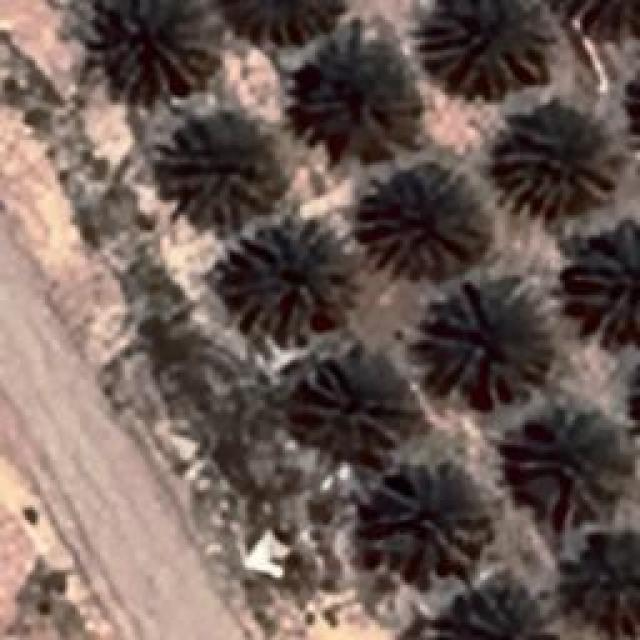PalmTree: (288, 30, 422, 160), (218, 215, 350, 335), (355, 160, 483, 278), (152, 105, 270, 230), (510, 402, 630, 522), (430, 280, 545, 405), (490, 110, 620, 215), (415, 0, 550, 98), (374, 462, 488, 568), (302, 354, 416, 458), (102, 0, 215, 102), (407, 570, 563, 640), (568, 222, 638, 342), (565, 538, 640, 636), (216, 0, 359, 49), (547, 0, 640, 46), (621, 60, 640, 165)
